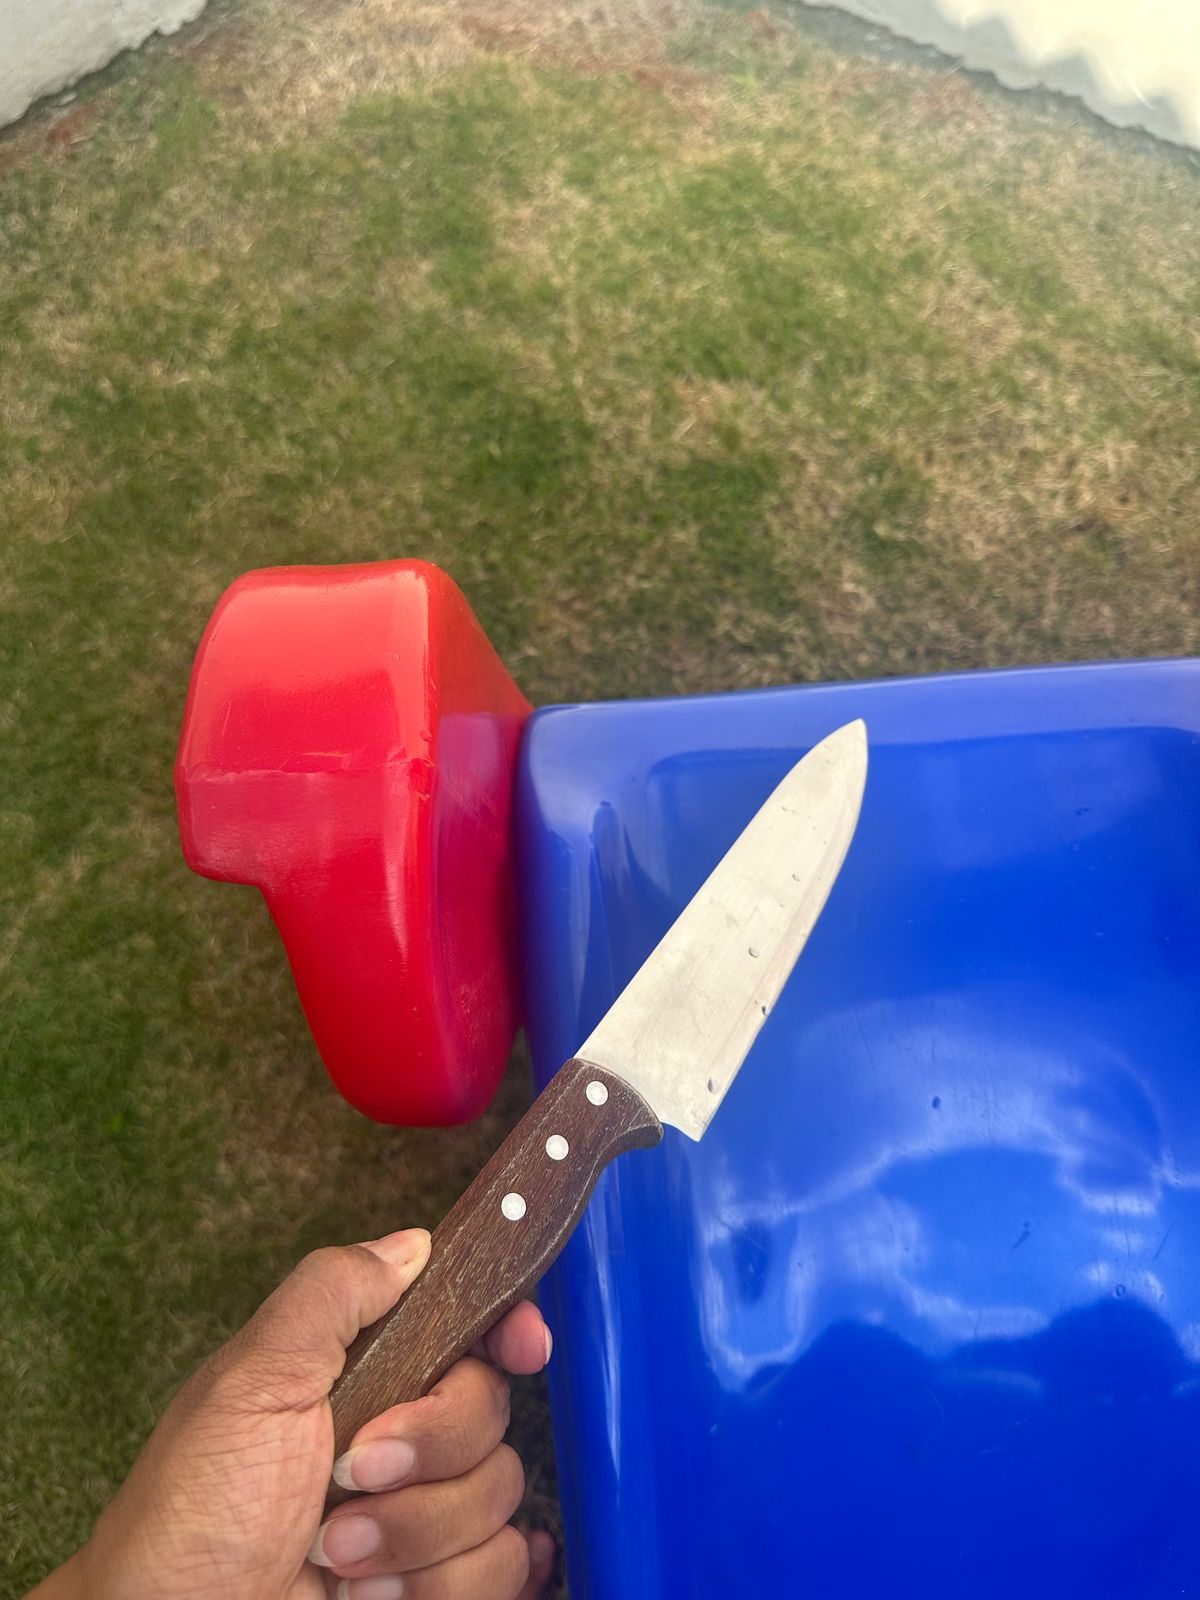faca: (452, 686, 893, 1298)
